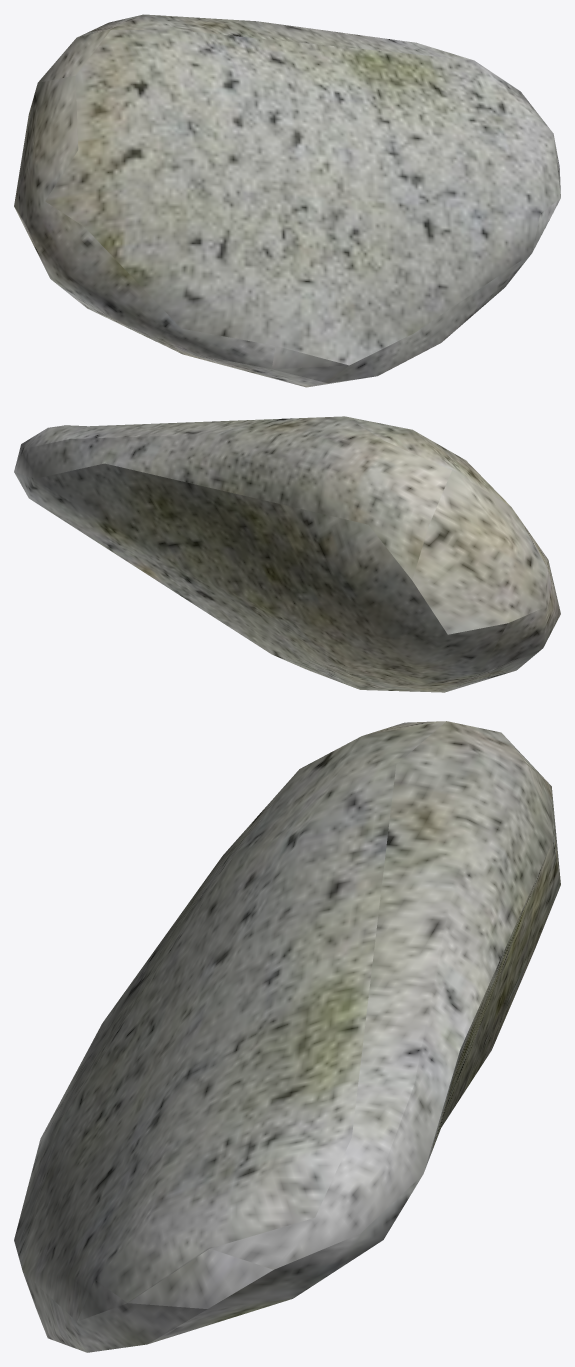
3 renders of one model, top to bottom at view 1: azimuth 30°, elevation 25°; view 2: azimuth 150°, elevation 25°; view 3: azimuth 270°, elevation 25°, orthographic. The views are drawn at different scales.
Visible parts, largest first — view 1: rock071_lod4; view 2: rock071_lod4; view 3: rock071_lod4.
Part boxes in pixels (x1,y1,x2,y2): rock071_lod4: (14, 14, 560, 387); rock071_lod4: (14, 416, 560, 692); rock071_lod4: (14, 721, 560, 1352).
Size of the model in its own units: 1 by 0.5832 by 0.5831.
Materials: 1 (1 with a texture image).
